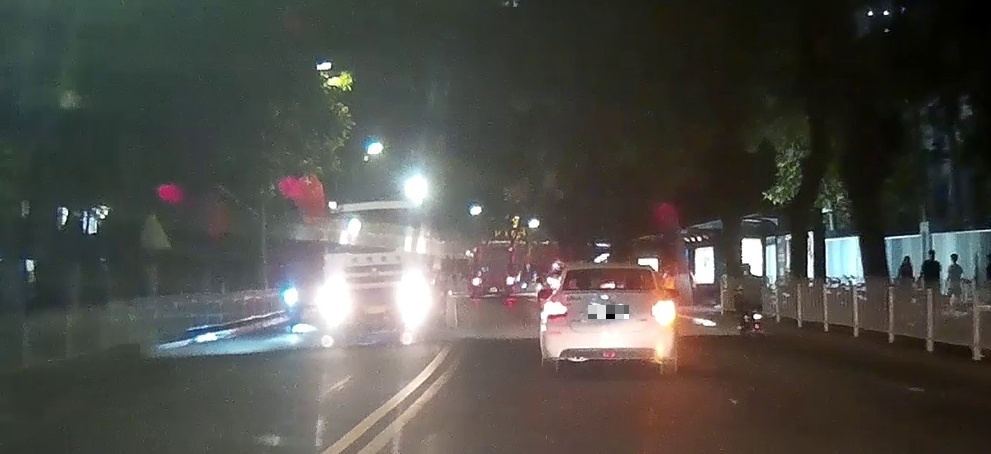L_light: (542, 302, 568, 319)
R_light: (651, 300, 676, 317)
T_light: (599, 283, 626, 289)
night-right: (539, 260, 679, 376)
plate_1: (588, 305, 629, 319)
